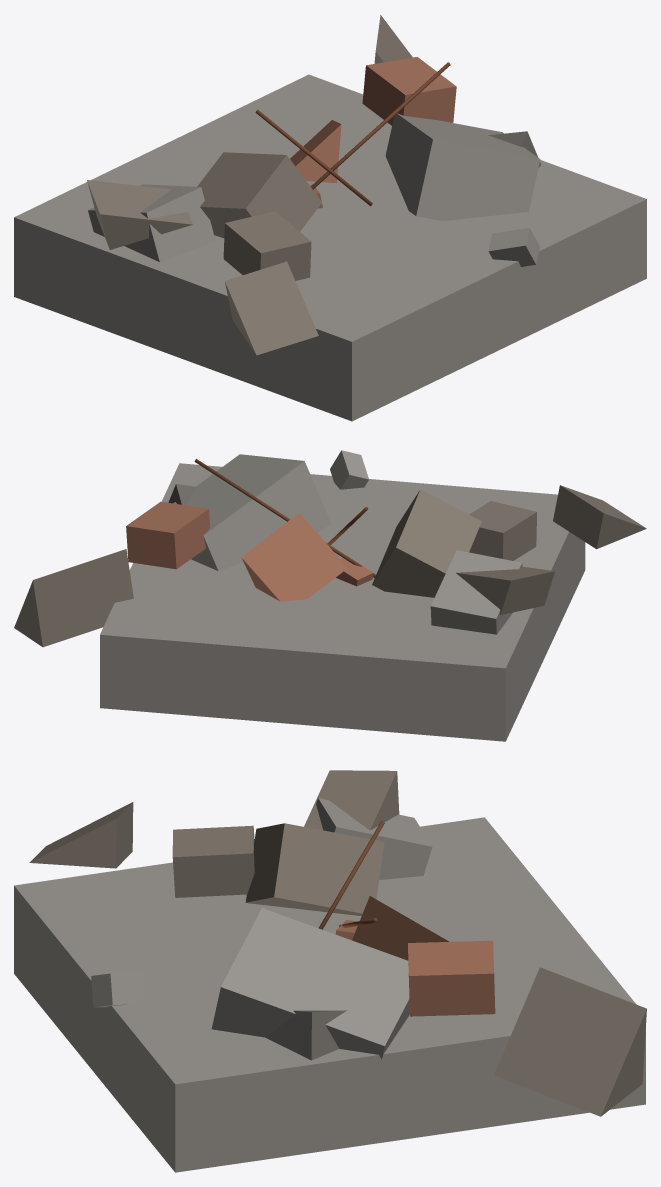
File: Rubble1.fbx
3 renders of one model, top to bottom at view 1: azimuth 30°, elevation 25°; view 2: azimuth 150°, elevation 25°; view 3: azimuth 270°, elevation 25°, orthographic. The views are drawn at different scales.
Visible parts, largest first — view 1: Core, Chunk7, Chunk11, Chunk9, Chunk8, Chunk2, Chunk0, Chunk1, Chunk3, Chunk10, Chunk6, Rebar0 (+1 smaller); view 2: Core, Chunk7, Chunk6, Chunk11, Chunk3, Chunk8, Chunk1, Chunk9, Chunk2, Chunk0, Chunk10, Rebar0 (+1 smaller); view 3: Core, Chunk7, Chunk6, Chunk11, Chunk8, Chunk2, Chunk1, Chunk0, Chunk9, Chunk3, Chunk4, Chunk10 (+1 smaller).
Part boxes in pixels (x1,y1,x2,y2): Core: [14, 74, 646, 421]; Chunk7: [385, 113, 540, 220]; Chunk11: [197, 152, 322, 238]; Chunk9: [225, 261, 318, 355]; Chunk8: [362, 57, 456, 125]; Chunk2: [223, 211, 311, 280]; Chunk0: [87, 180, 192, 249]; Chunk1: [88, 184, 215, 262]; Chunk3: [290, 120, 341, 183]; Chunk10: [488, 227, 539, 266]; Chunk6: [374, 15, 412, 63]; Rebar0: [311, 62, 450, 189]; Core: [100, 463, 585, 741]; Chunk7: [173, 454, 331, 571]; Chunk6: [14, 549, 133, 647]; Chunk11: [372, 489, 481, 597]; Chunk3: [241, 512, 347, 601]; Chunk8: [126, 501, 209, 569]; Chunk1: [430, 550, 522, 634]; Chunk9: [553, 485, 646, 549]; Chunk2: [469, 501, 537, 560]; Chunk0: [456, 566, 554, 614]; Chunk10: [330, 450, 368, 489]; Rebar0: [194, 459, 375, 577]; Core: [14, 817, 645, 1172]; Chunk7: [211, 908, 409, 1059]; Chunk6: [494, 967, 646, 1116]; Chunk11: [245, 823, 384, 915]; Chunk8: [408, 940, 495, 1016]; Chunk2: [172, 825, 254, 897]; Chunk1: [316, 798, 432, 879]; Chunk0: [304, 770, 399, 830]; Chunk9: [29, 802, 133, 868]; Chunk3: [352, 896, 449, 960]; Chunk4: [265, 1010, 346, 1060]; Chunk10: [91, 973, 143, 1007].
Size of the model in its own units: 584 by 585 by 200.
